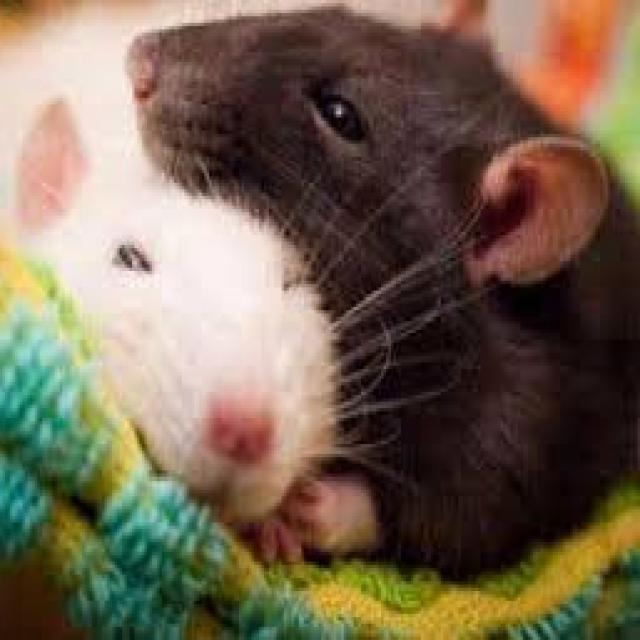rat: (129, 7, 640, 575), (2, 0, 334, 516)
